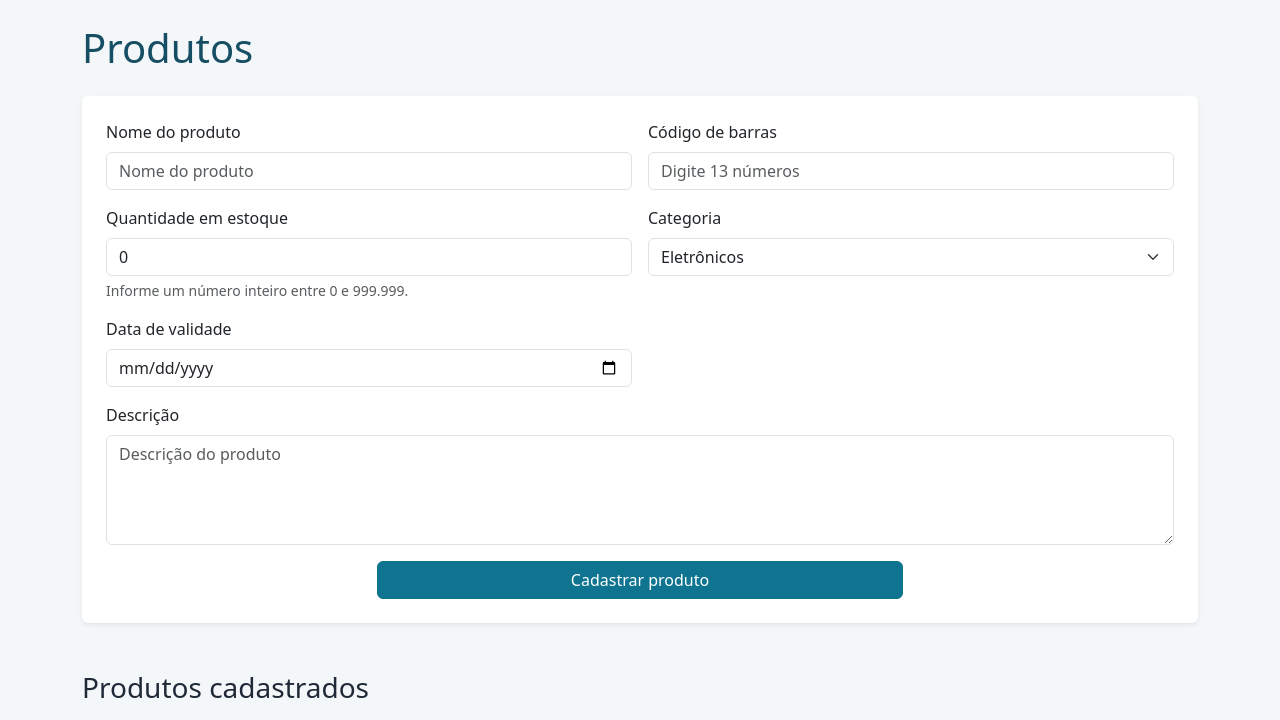
Test: ProductsPage › cadastra produto com estoque zero
Expected: the heading "Produtos" is shown, [82,20,253,75]
Type "Produto sem estoque" into the field labelled "Nome do produto" at [369, 171], box [106,152,632,190]
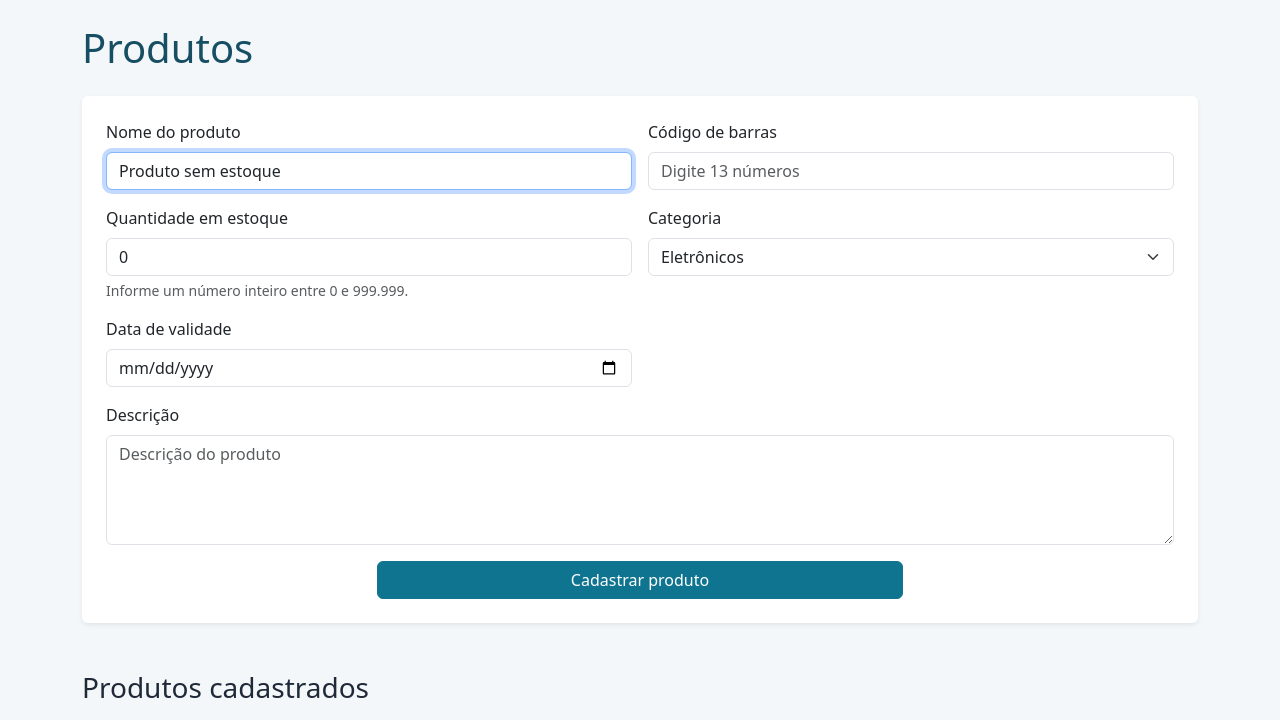
Type "0000000000000" into the field labelled "Código de barras" at [911, 171], box [648,152,1174,190]
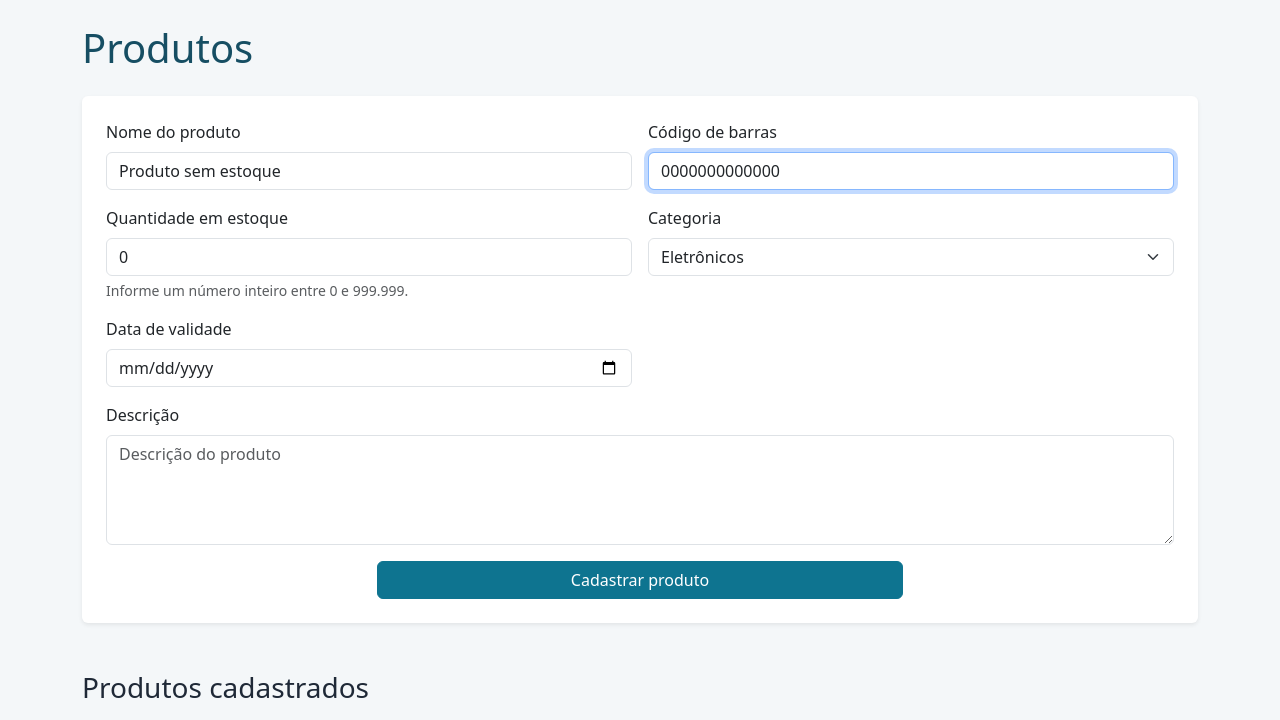
Type "Produto cadastrado sem unidades disponíveis" into the text box labelled "Descrição" at [640, 490], box [106,435,1174,545]
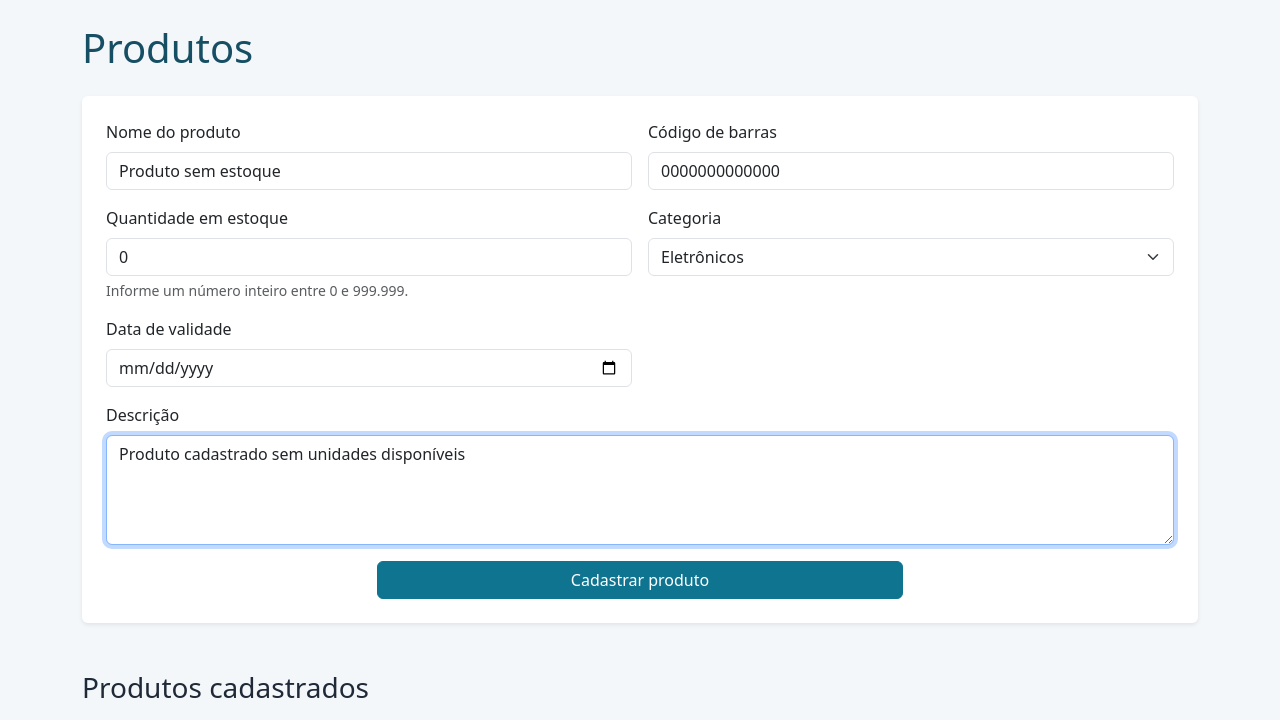
Click the button "Cadastrar produto" at [640, 580], box [377,561,903,599]
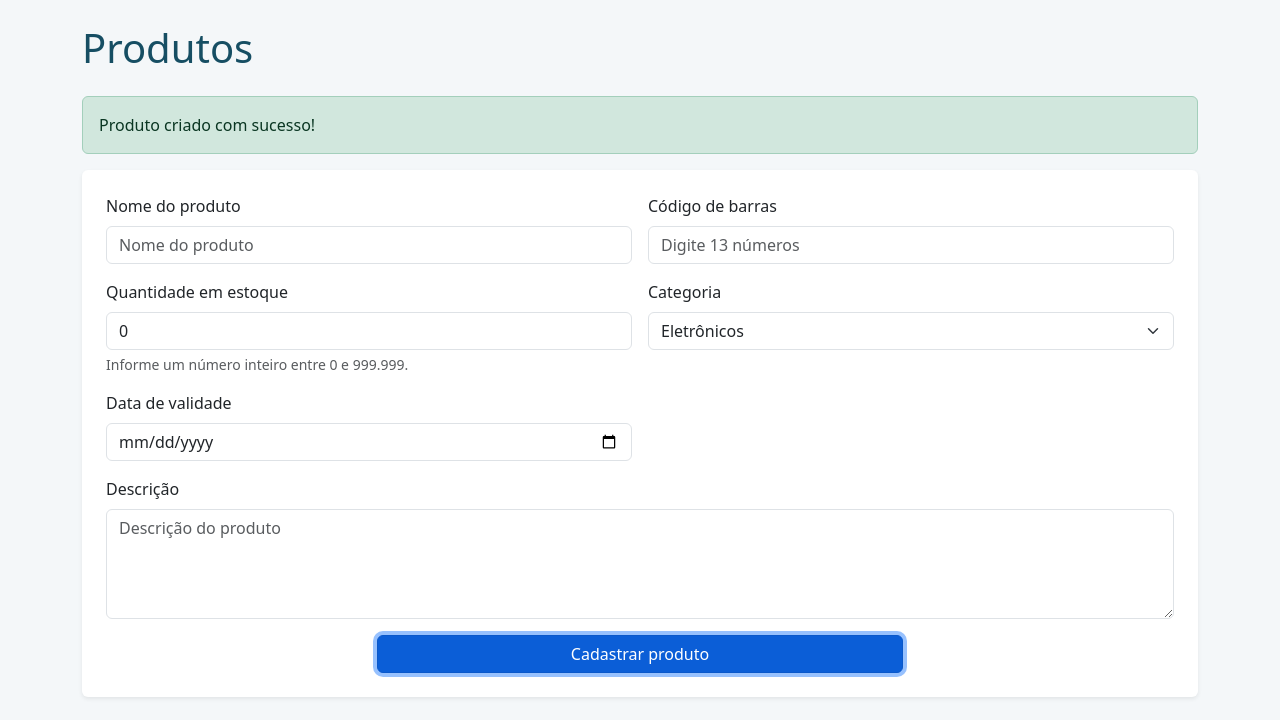
Result: the message reads "Produto criado com sucesso!" at [99,114,315,136]
